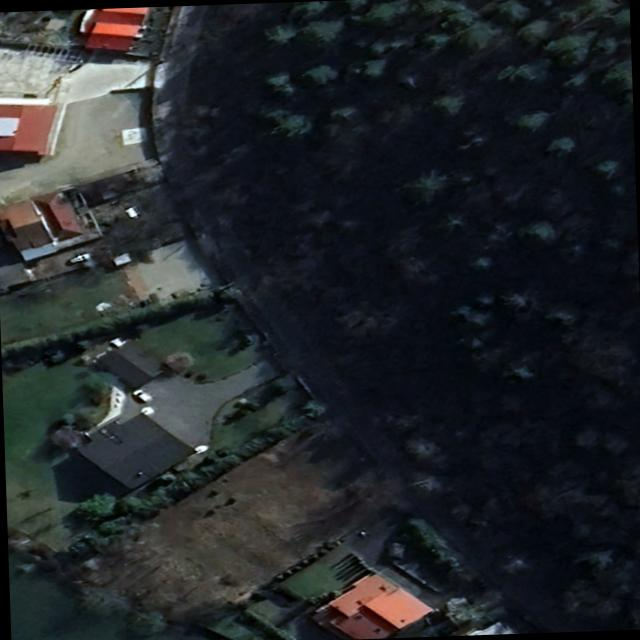bare-soil: (77, 416, 397, 626)
building: (157, 4, 564, 632), (0, 5, 218, 304), (201, 508, 545, 640), (75, 331, 294, 492)
grass: (1, 267, 318, 640)
tree: (188, 0, 640, 631)
